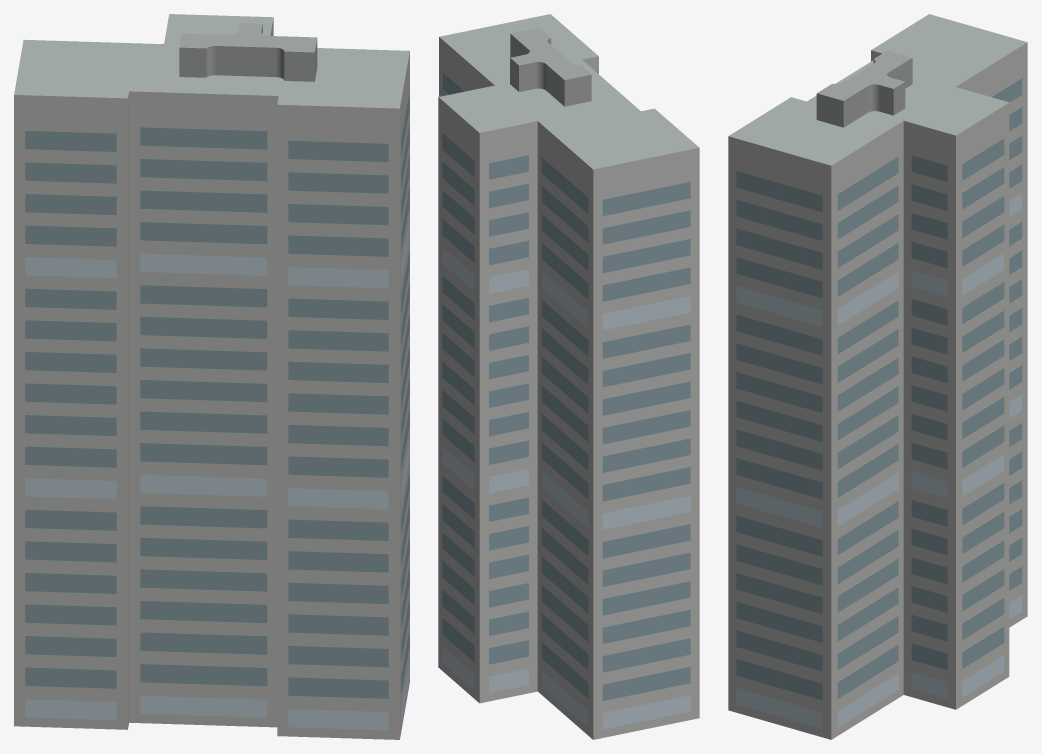
The model's file is fallback-lake-palace-128.glb.
3 renders of one model, left to right at view 1: azimuth 30°, elevation 25°; view 2: azimuth 150°, elevation 25°; view 3: azimuth 270°, elevation 25°, orthographic. The views are drawn at different scales.
Visible parts, largest first — view 1: fallback-lake-palace-128; view 2: fallback-lake-palace-128; view 3: fallback-lake-palace-128.
Boxes of the visible parts, <box> form: fallback-lake-palace-128: <box>14,14,409,739</box>; fallback-lake-palace-128: <box>438,14,699,739</box>; fallback-lake-palace-128: <box>728,14,1027,739</box>.
Bounding box in the file's own units: 29.26 × 54 × 24.38.
